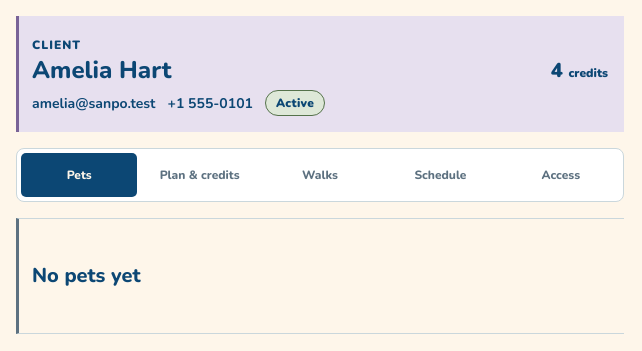
Test case: ClientDetail edit affordances › withholds every re-personalising surface from a purged client
Expected: the heading "Amelia Hart" is shown, [32,57,171,85]
Expected: the text "No pets yet" is shown, [32,264,140,288]
Click the tab "Access".
click(561, 175)  # box [503,153,619,197]
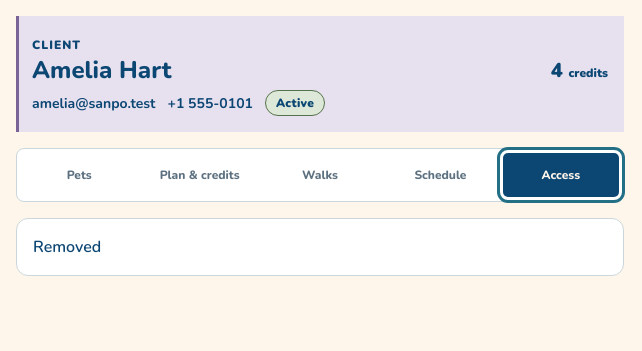
Expected: the text "Removed" is shown, [33,236,101,258]
